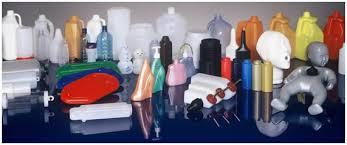Container for household chemicals: (4, 7, 233, 124), (240, 8, 344, 37)
Plastic toys: (285, 45, 337, 113)
